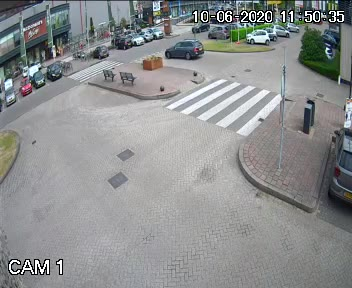car: (161, 37, 207, 61), (188, 18, 211, 38)
